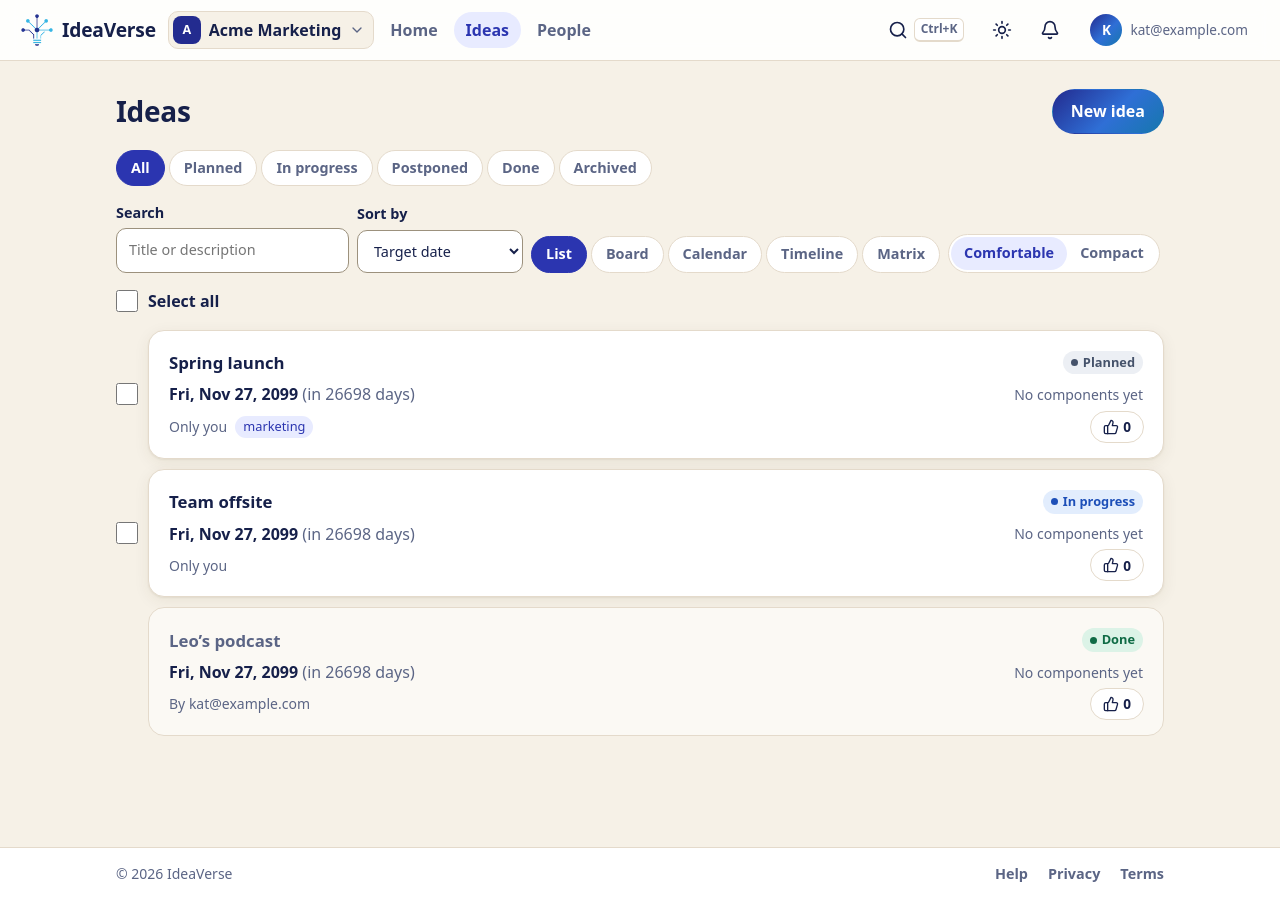
Test case: Board view › shows a column per status with its ideas
Click the button "Board".
click(627, 255)  # box [591,236,664,273]
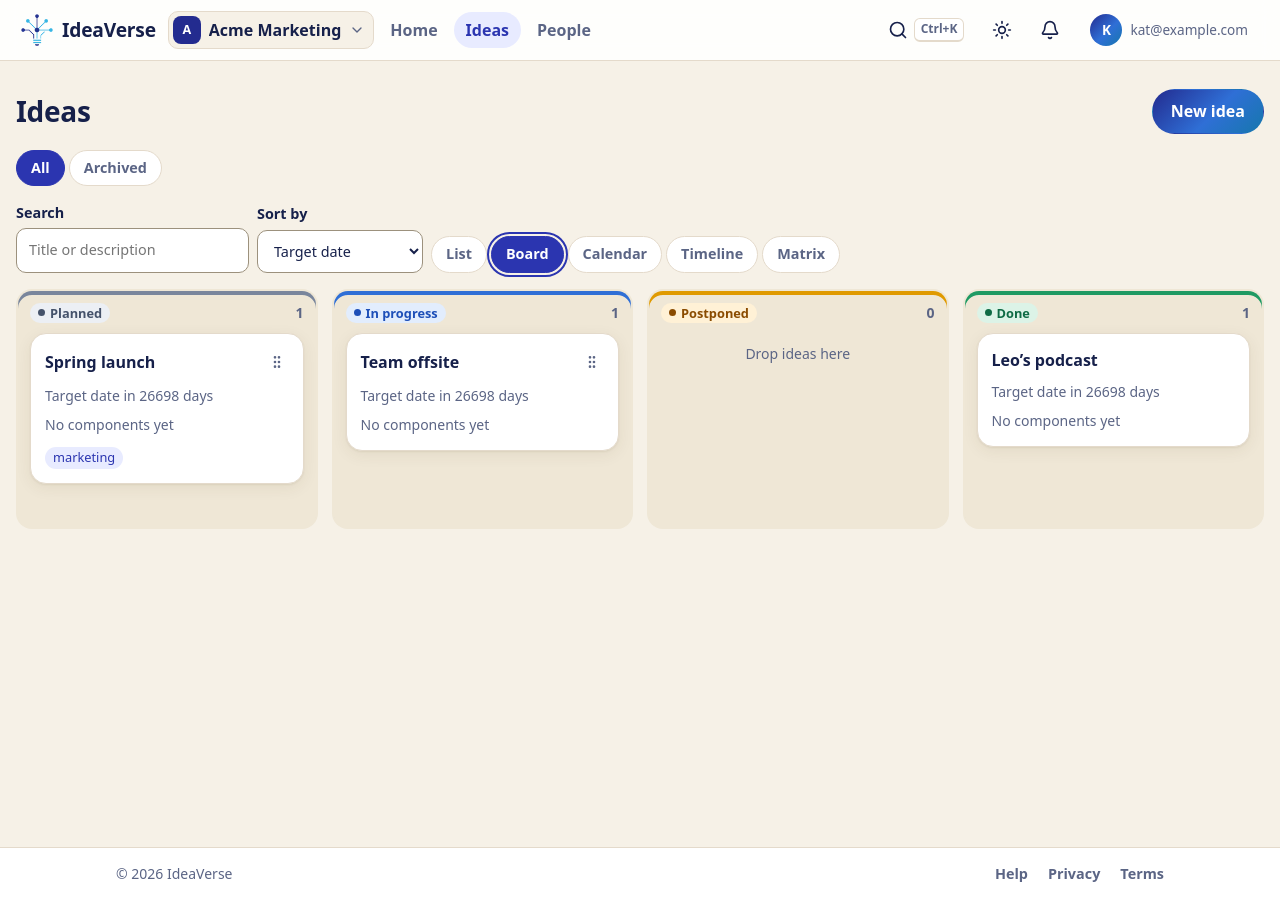
Expected: the link "Spring launch" is shown, [45,350,155,374]
Result: the text "Drop ideas here" is shown at [745,344,850,363]
